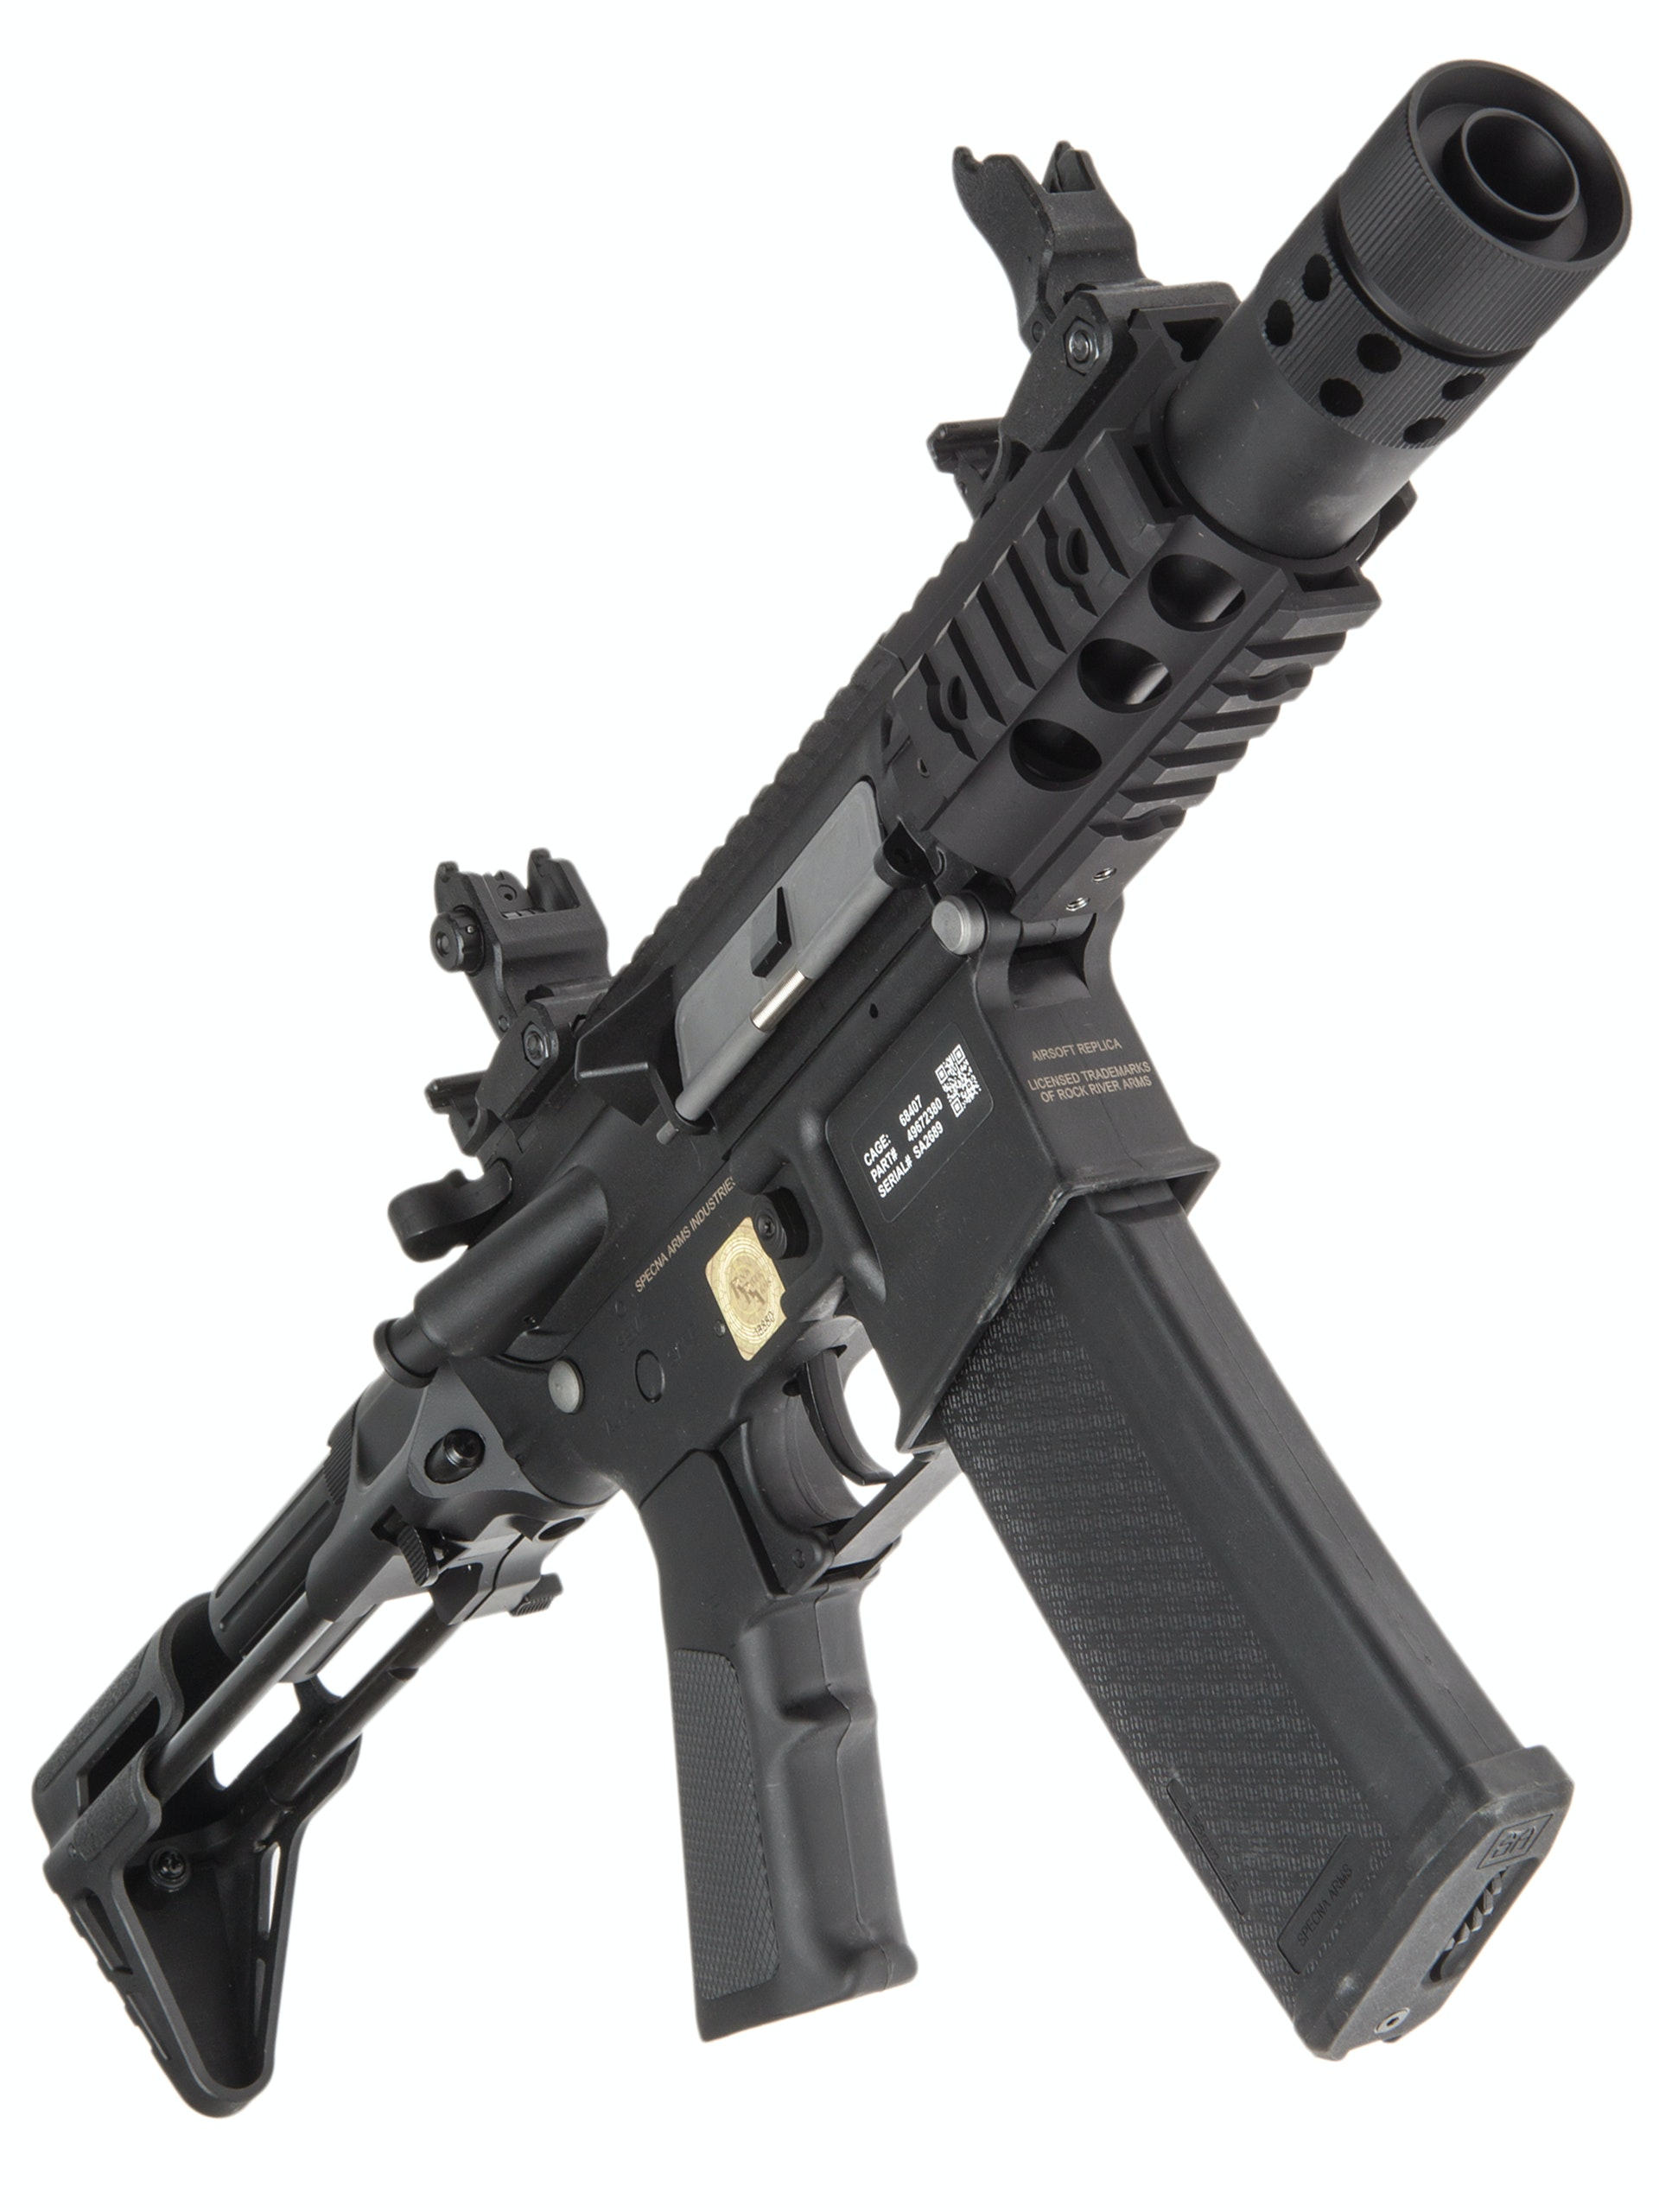m4_carbine: (375, 711, 1593, 2120)
